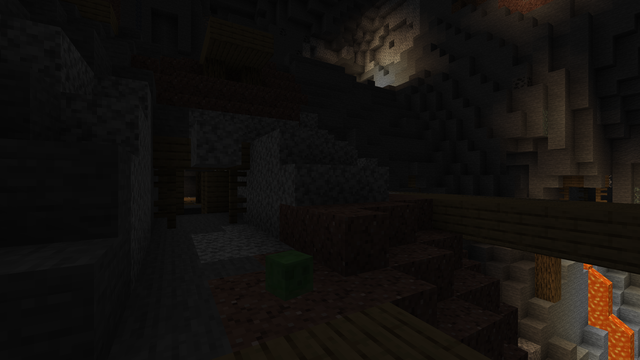slimes: (266, 248, 312, 301)
